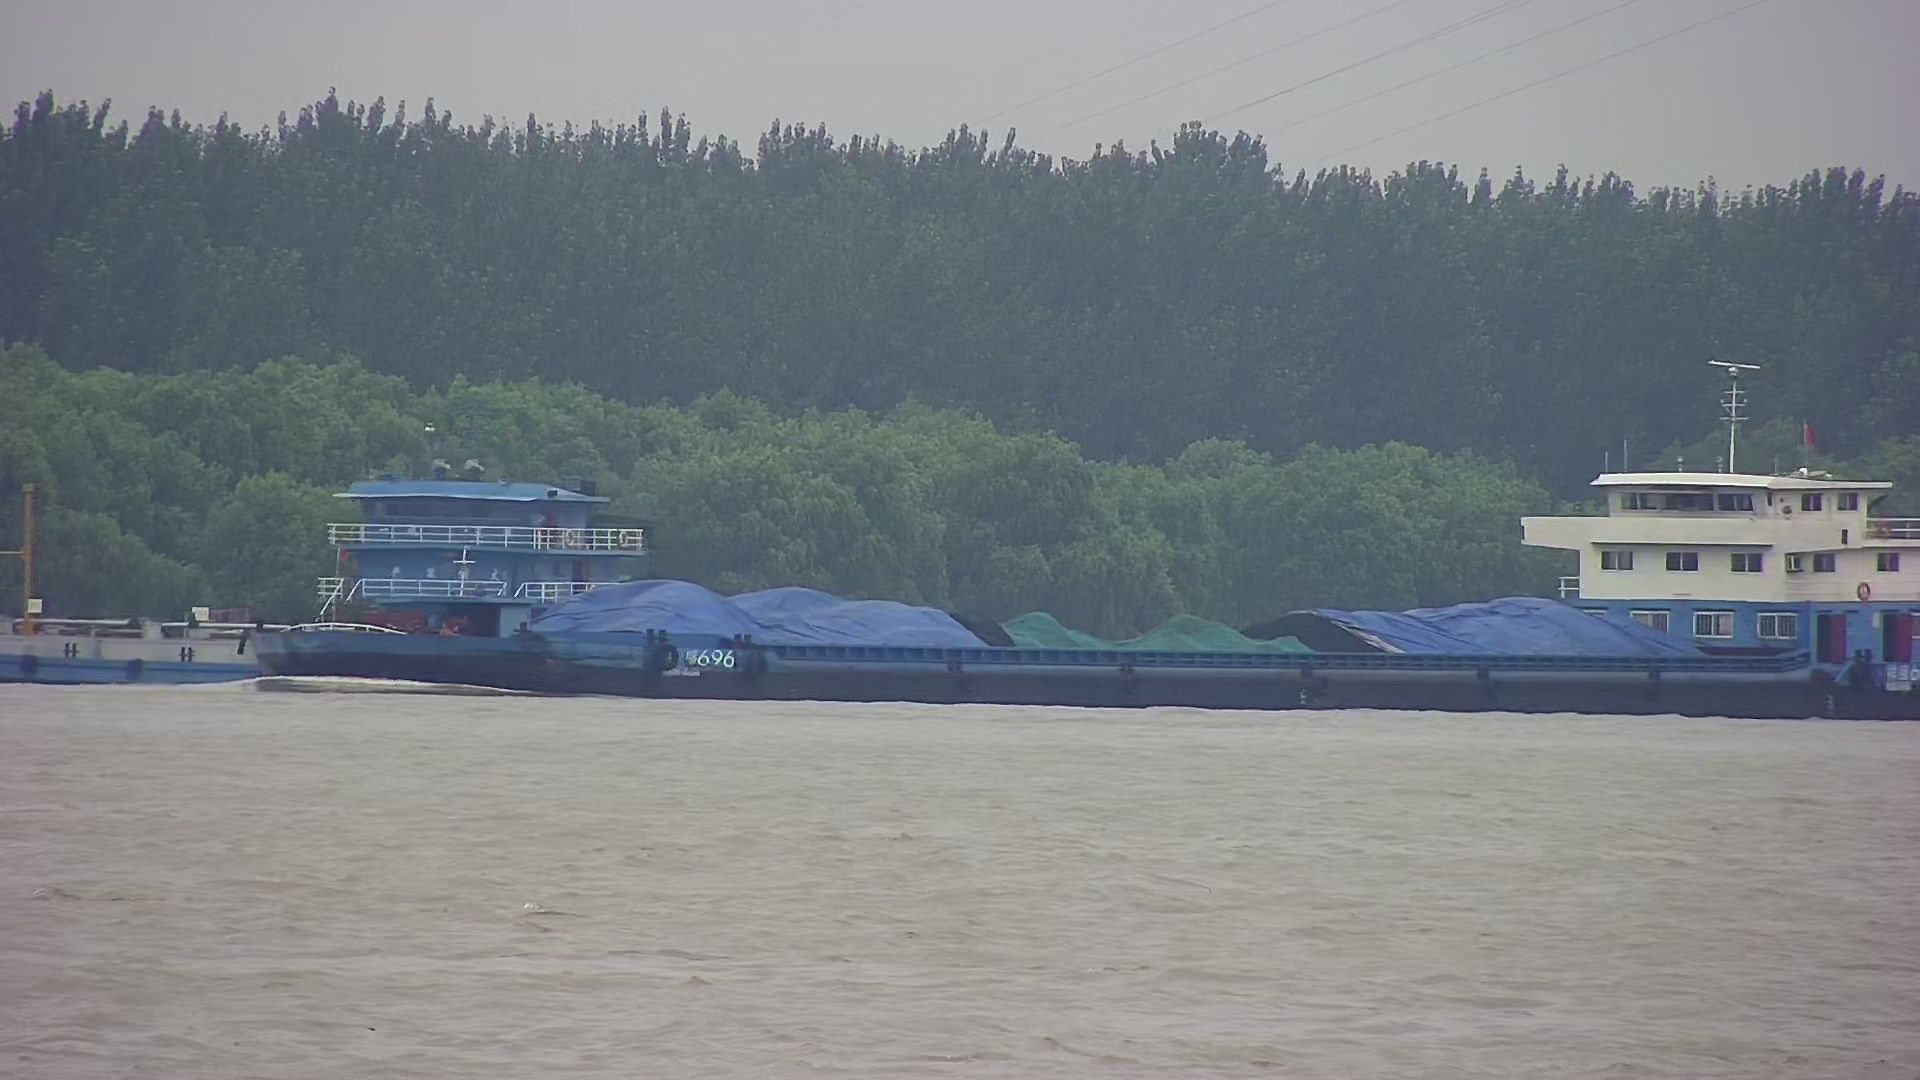ship: (247, 451, 1919, 731), (3, 419, 667, 695)
